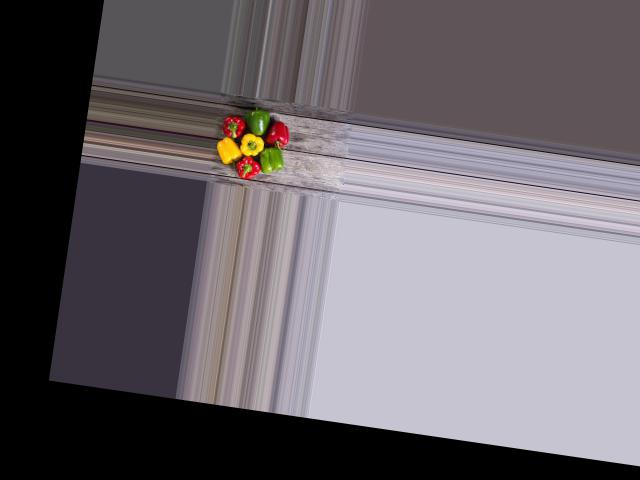bell_pepper: (215, 113, 246, 144)
